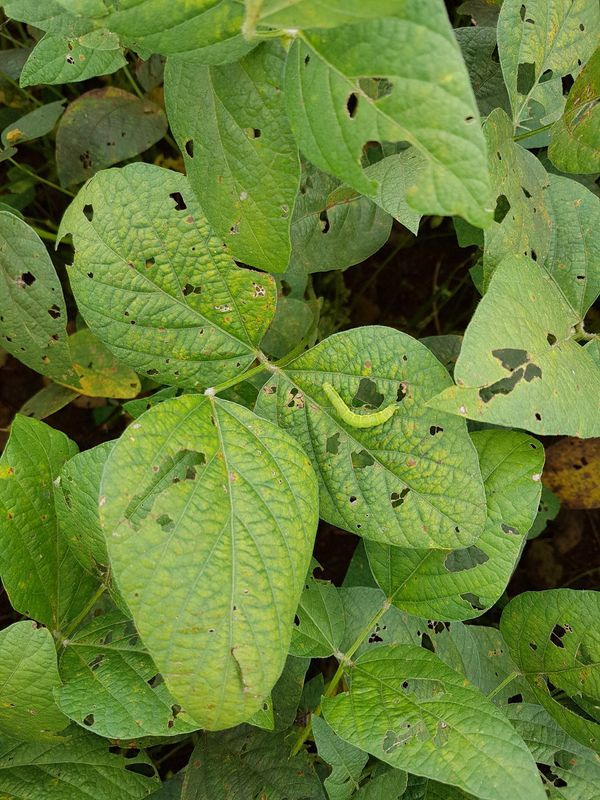Anticarsia_gemmatalis: (315, 374, 404, 439)
